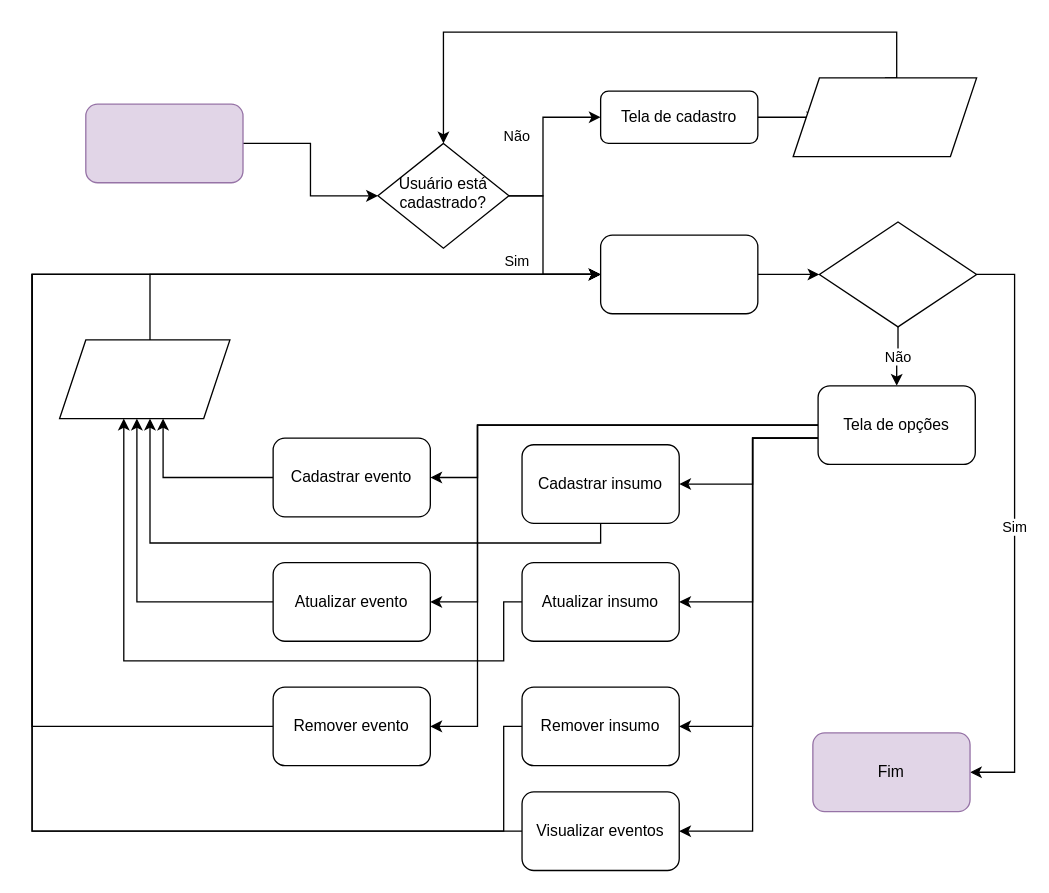
The diagram is 1049 pixels wide and 893 high, and some of its shapes have lost their labels. Each missing label, with the box of its shape:
Deseja finalizar?: (818, 221, 977, 327)
Início: (84, 103, 243, 183)
Menu principal: (599, 234, 758, 314)
Realiza a leitura de dados: (792, 77, 977, 157)
Realiza leitura de dados: (58, 339, 230, 419)
